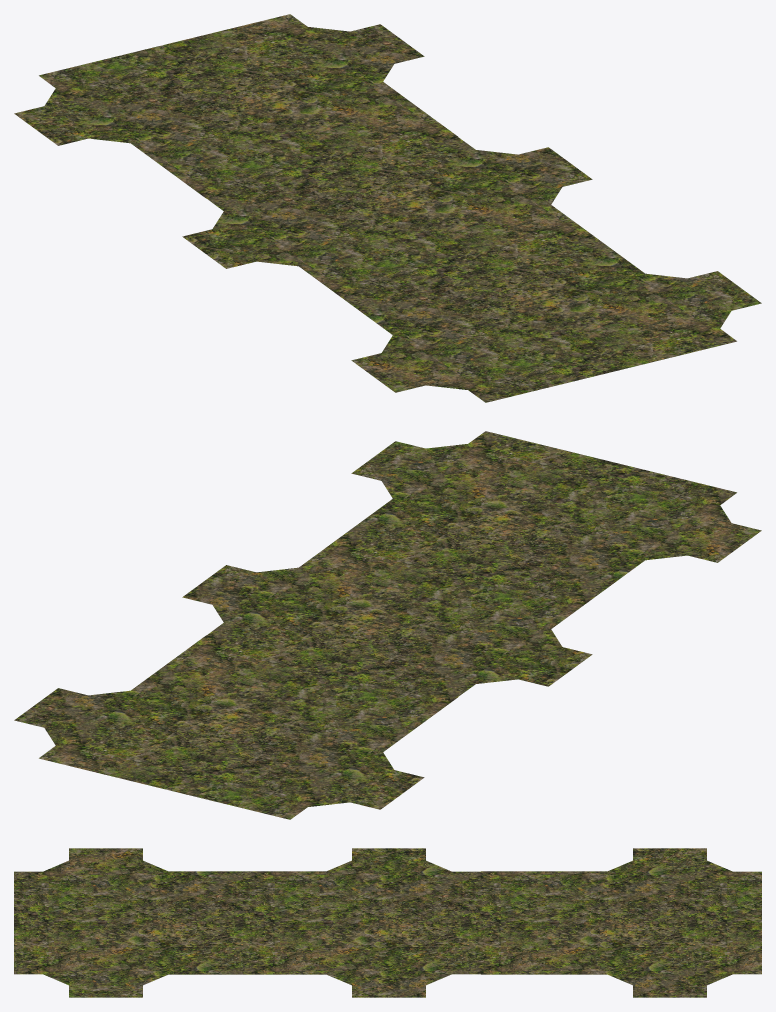
File: Planter_DirtPlane_Unique08.FBX
3 views of the same model, one above another, from view 1: azimuth 30°, elevation 25°; view 2: azimuth 150°, elevation 25°; view 3: azimuth 270°, elevation 25° (orthographic). The views are drawn at different scales.
Visible parts, largest first — view 1: Planter_DirtPlane_Unique08; view 2: Planter_DirtPlane_Unique08; view 3: Planter_DirtPlane_Unique08.
Part boxes in pixels (x1=…): Planter_DirtPlane_Unique08: x1=14, y1=14, x2=761, y2=402; Planter_DirtPlane_Unique08: x1=14, y1=431, x2=761, y2=819; Planter_DirtPlane_Unique08: x1=14, y1=848, x2=761, y2=997.
Bounding box in the file's own units: 6.26 × 3.75e-15 × 13.24.
